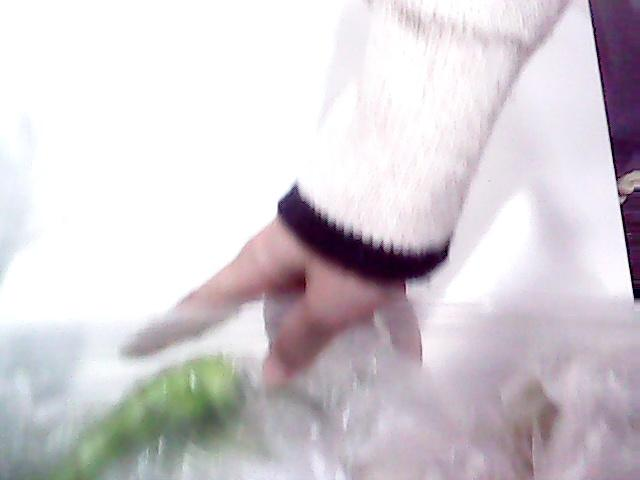pepper: (0, 350, 244, 480)
